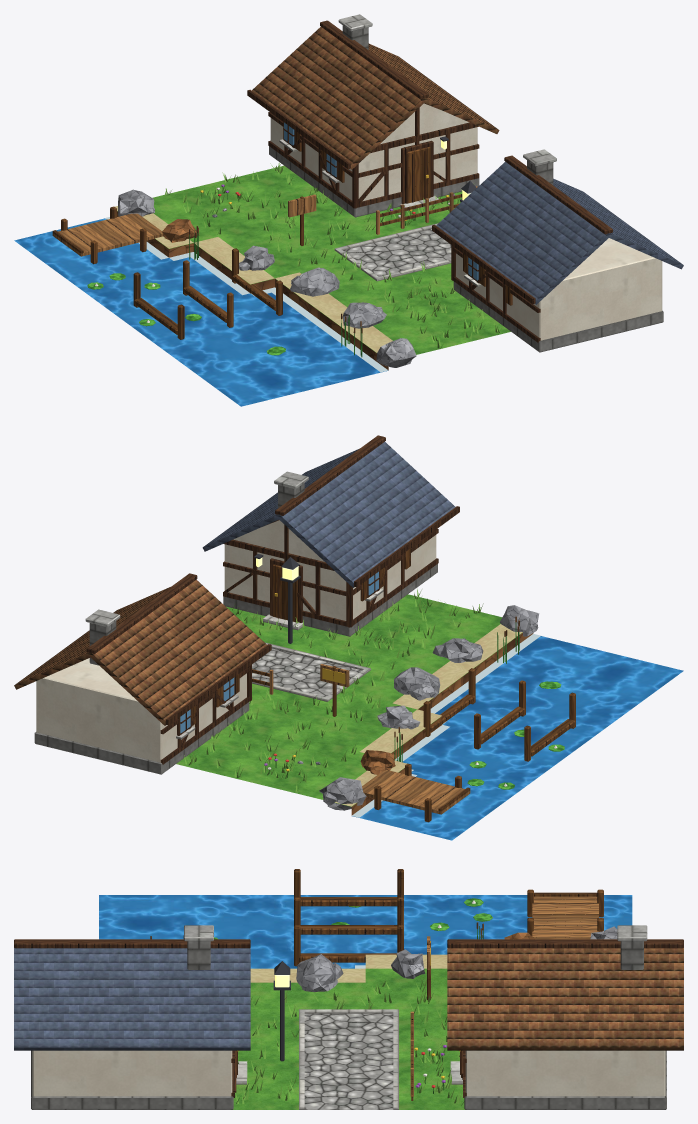
File: chunk_4_5.glb
3 views of the same model, one above another, from view 1: azimuth 30°, elevation 25°; view 2: azimuth 150°, elevation 25°; view 3: azimuth 270°, elevation 25° (orthographic). The views are drawn at different scales.
Parts seen in each view (by area): view 1: chunk_4_5; view 2: chunk_4_5; view 3: chunk_4_5.
Boxes of the visible parts, <box> form: chunk_4_5: <box>14,14,683,406</box>; chunk_4_5: <box>14,435,683,840</box>; chunk_4_5: <box>14,869,683,1109</box>.
Size of the model in its own units: 16.55 by 5.35 by 20.1.
Materials: 30 (20 with a texture image).
